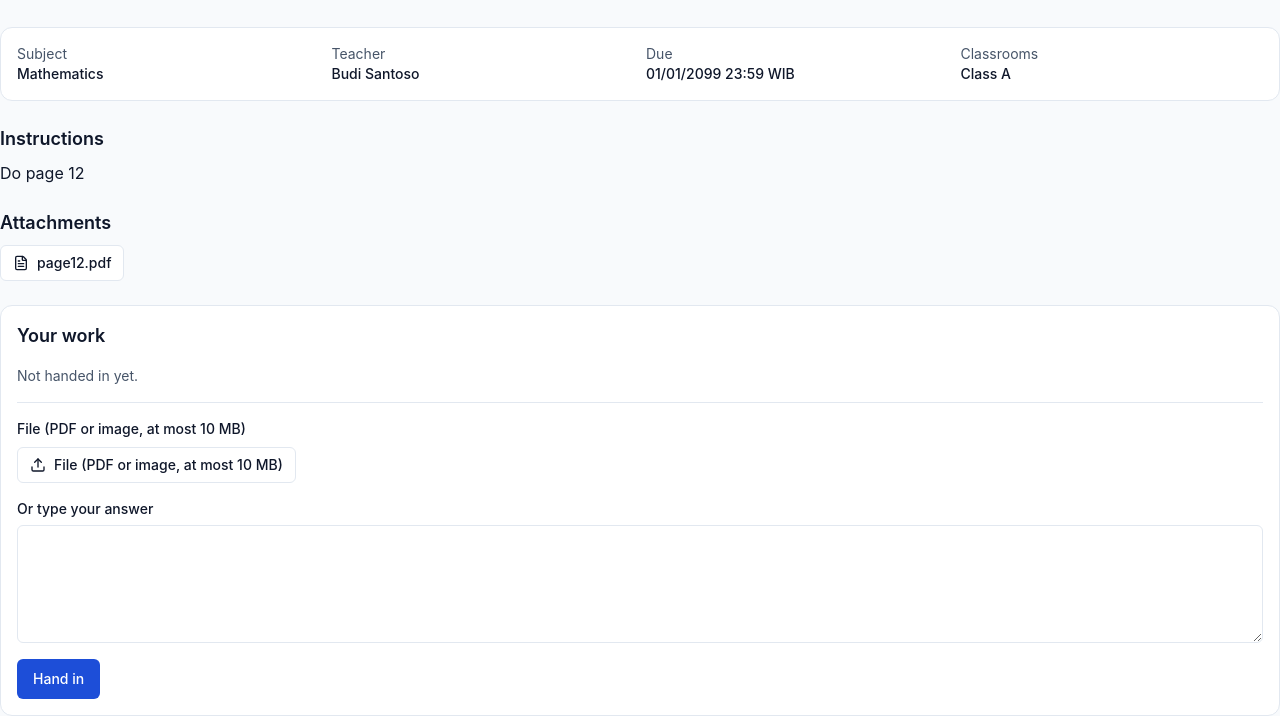
AssignmentDetailPage › asks for a file or a text before it sends anything
(page scrolled)
Click the button "Hand in": {"x": 59, "y": 679} [17,659,100,699]
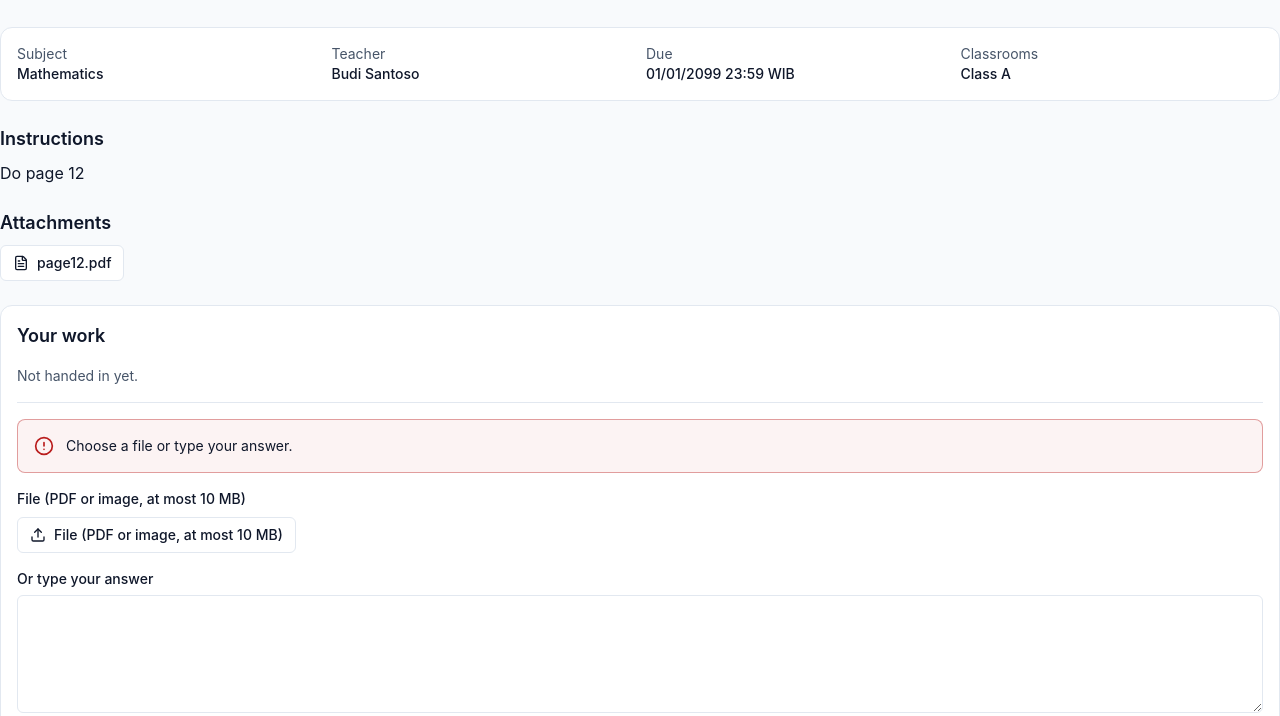
Expected: the text "Choose a file or type your answer." is shown, [66,437,292,454]
